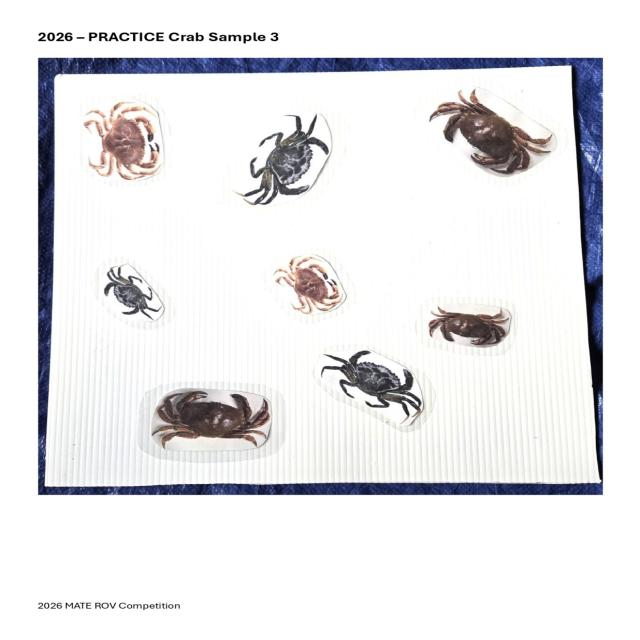egc: (232, 113, 330, 206), (320, 350, 422, 425), (103, 263, 163, 321)
